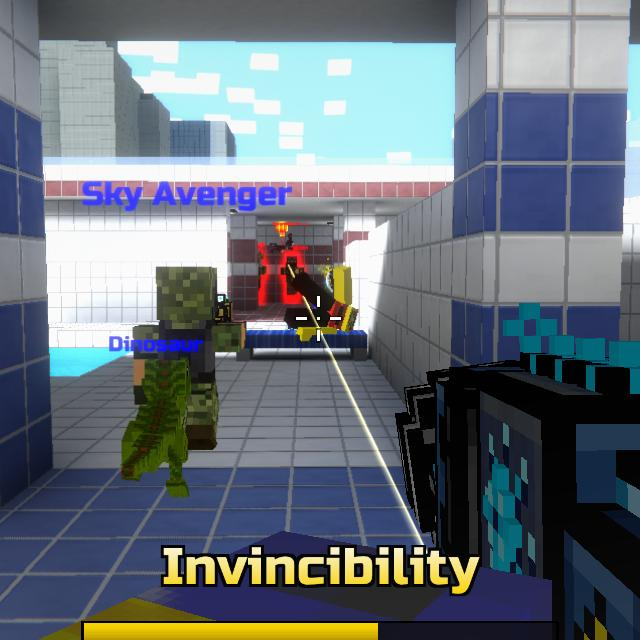Enemy: (280, 256, 304, 295), (258, 250, 267, 291)
